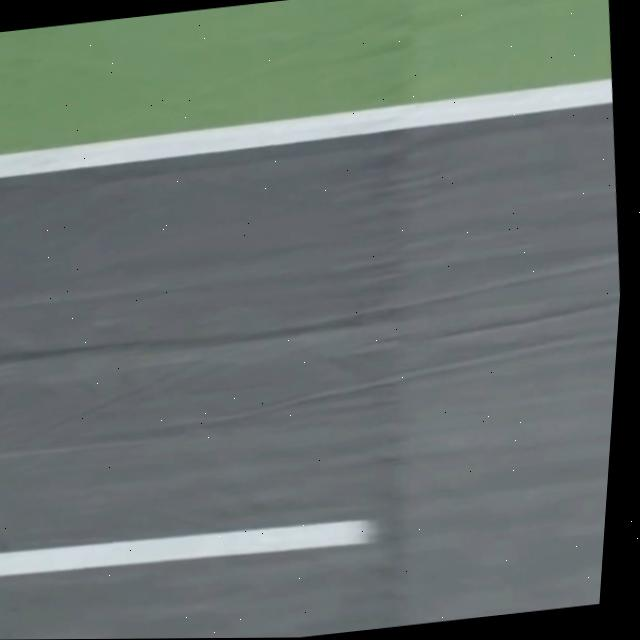center: (0, 520, 375, 576)
right: (0, 79, 612, 177)
